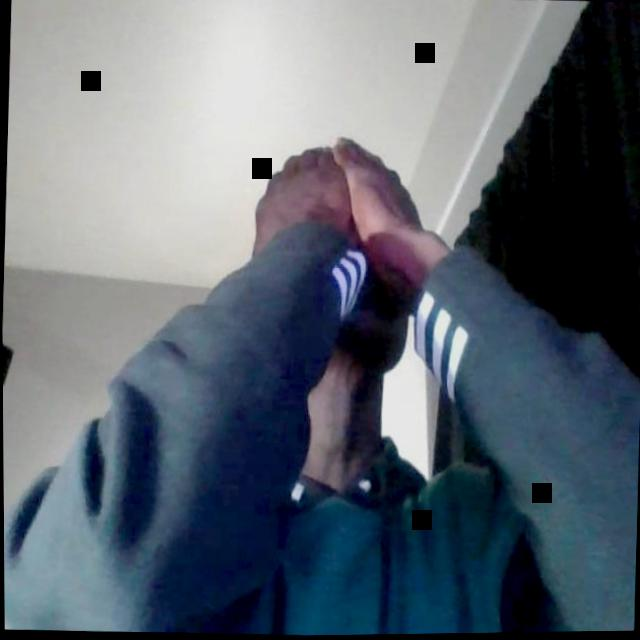NO-Mask: (333, 258, 409, 378)
